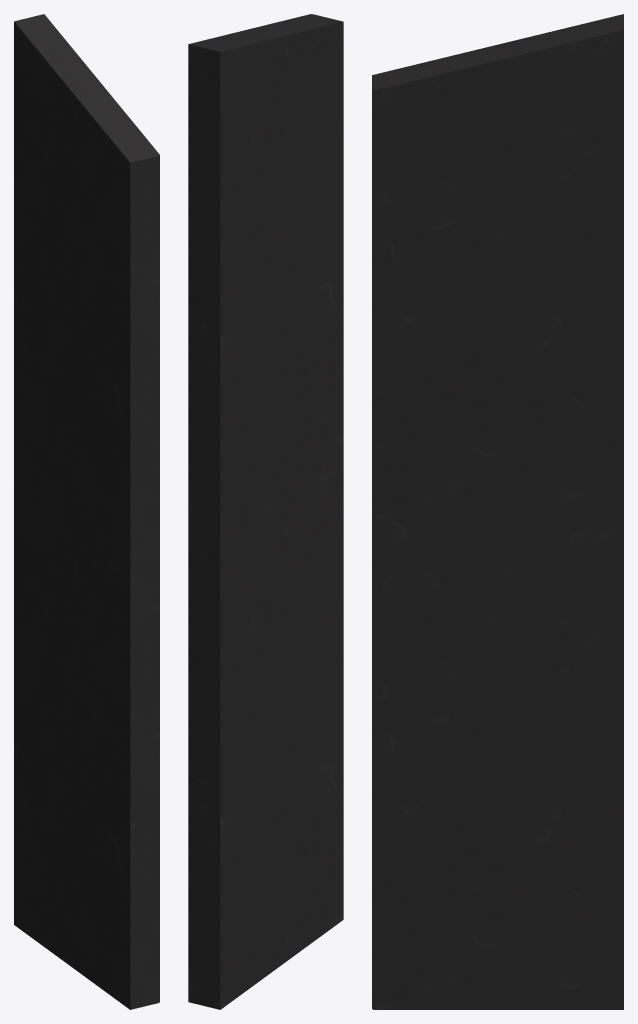
File: A13.1.1 H.WALL. PNL 4292 E2.fbx
3 views of the same model, side by side, from view 1: azimuth 30°, elevation 25°; view 2: azimuth 150°, elevation 25°; view 3: azimuth 270°, elevation 25° (orthographic). The views are drawn at different scales.
Visible parts, largest first — view 1: Model; view 2: Model; view 3: Model.
Boxes of the visible parts, bbox=[...] form: Model: bbox=[14, 14, 159, 1009]; Model: bbox=[188, 14, 343, 1009]; Model: bbox=[372, 14, 623, 1009].
Bounding box in the file's own units: 150 × 4292 × 1000.
